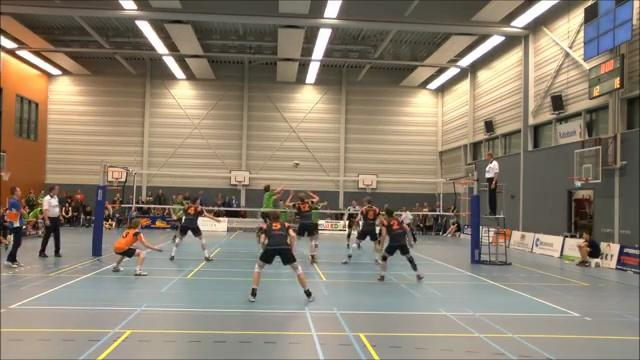Player: (249, 211, 313, 301), (282, 183, 323, 265), (378, 208, 423, 281), (169, 197, 219, 260), (112, 219, 162, 275), (342, 197, 380, 263), (344, 200, 360, 248), (170, 194, 186, 242), (400, 207, 416, 246), (380, 204, 388, 219)
Set: (259, 181, 286, 219)
ball: (292, 160, 300, 170)
